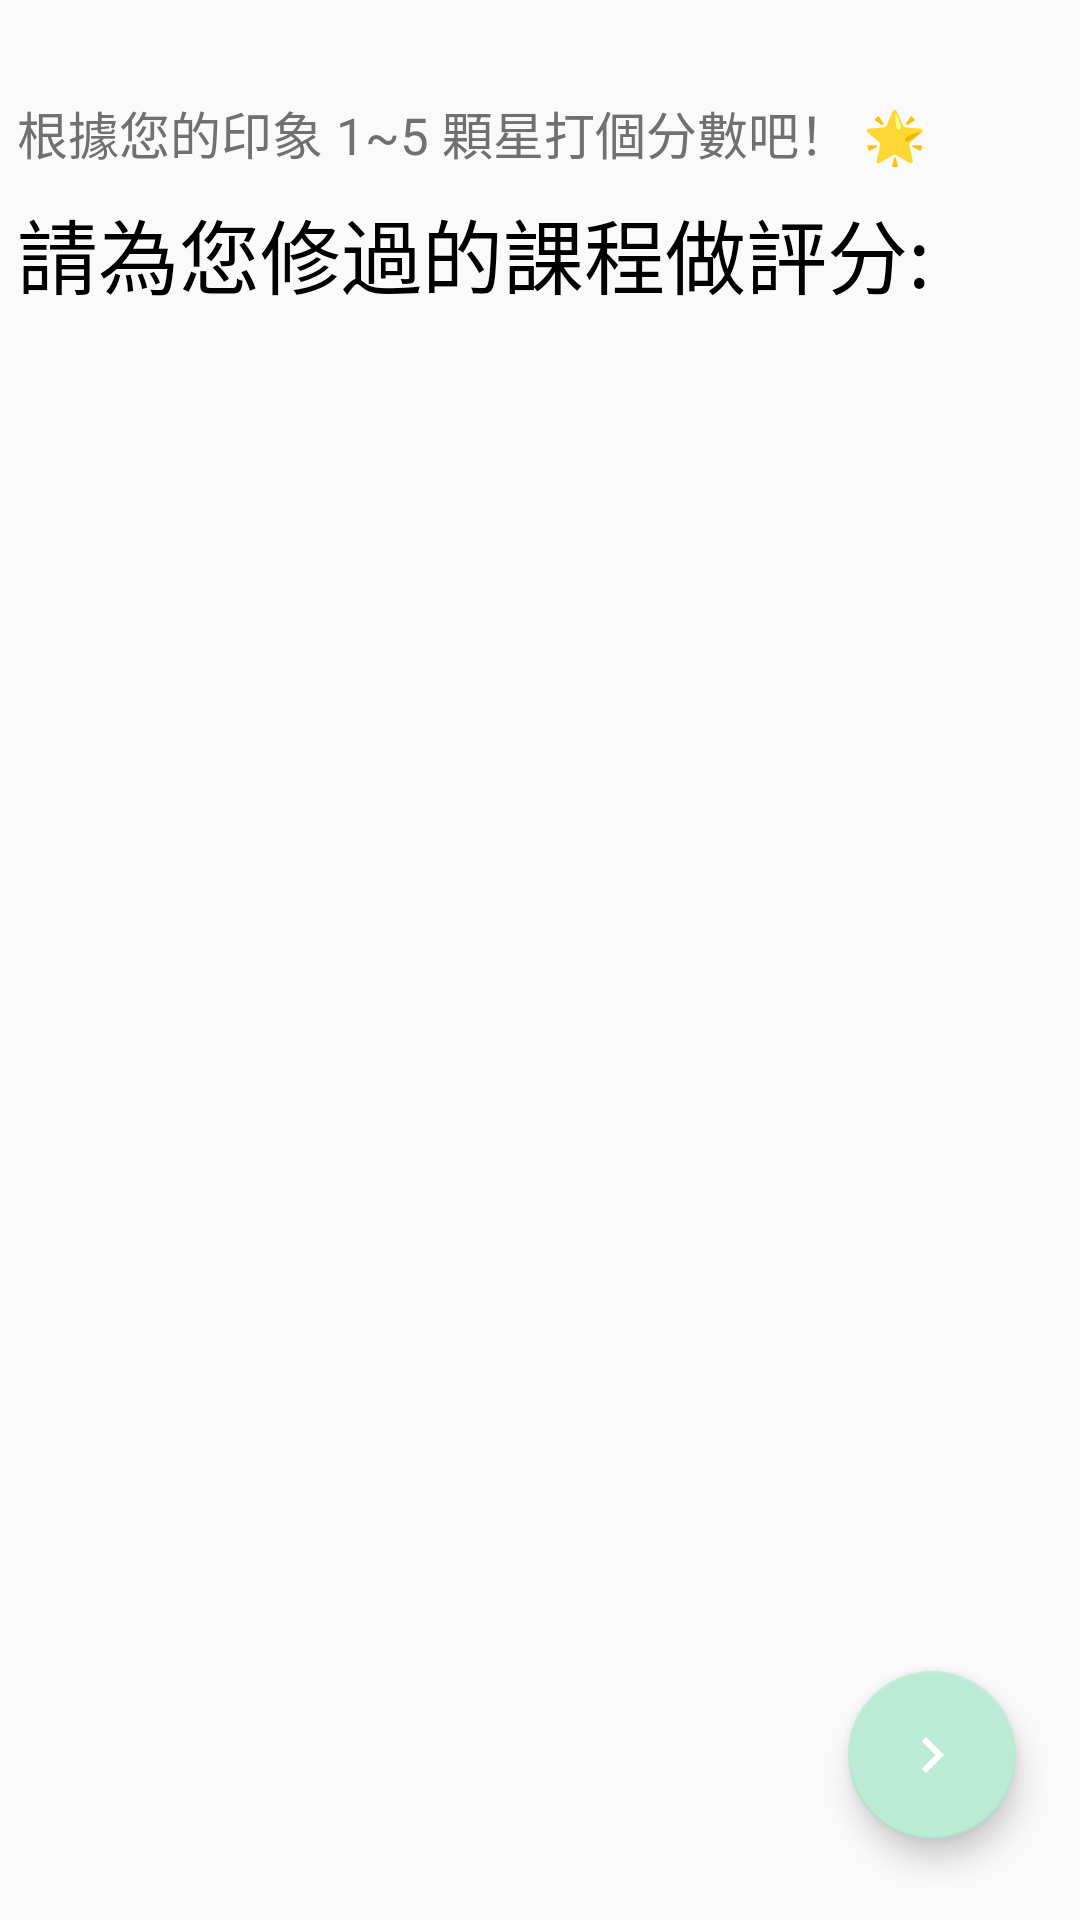

Point at icon controls on the screen. Image size 1080w x 1920h, points as (x=x, y=y).
next: (x=932, y=1755)
